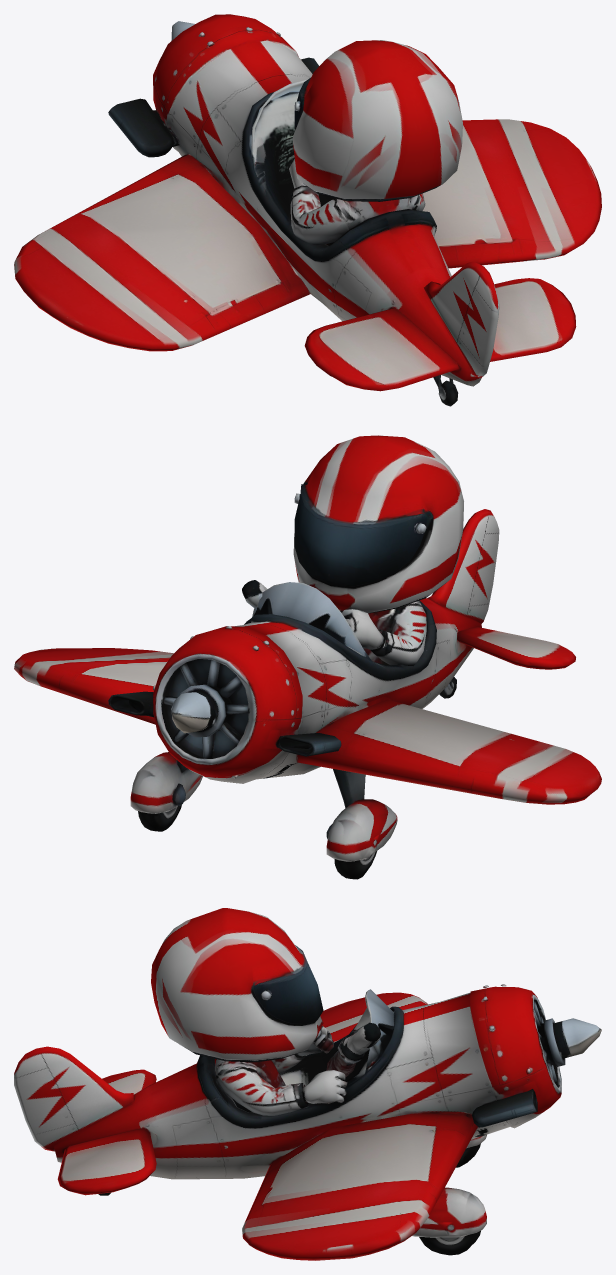
The model's file is ChatGPT_Image_7_juni_2026_10_2_Cartoon_pilot_in_small_red_aircraft_Tripo_P1_Game_Ready_e6f06aed.glb.
The picture shows the model from 3 angles, top to bottom: view 1: azimuth 30°, elevation 25°; view 2: azimuth 150°, elevation 25°; view 3: azimuth 270°, elevation 25°; orthographic projection. The views are drawn at different scales.
Parts seen in each view (by area): view 1: tripo_node_d22eed40-e791-4b6a-9577-b9356cf520f6; view 2: tripo_node_d22eed40-e791-4b6a-9577-b9356cf520f6; view 3: tripo_node_d22eed40-e791-4b6a-9577-b9356cf520f6.
Boxes of the visible parts, <box> form: tripo_node_d22eed40-e791-4b6a-9577-b9356cf520f6: <box>14,14,601,406</box>; tripo_node_d22eed40-e791-4b6a-9577-b9356cf520f6: <box>14,435,601,879</box>; tripo_node_d22eed40-e791-4b6a-9577-b9356cf520f6: <box>14,908,601,1260</box>.
Size of the model in its own units: 0.998 by 0.5566 by 0.998.
1 material, 1 textured.
